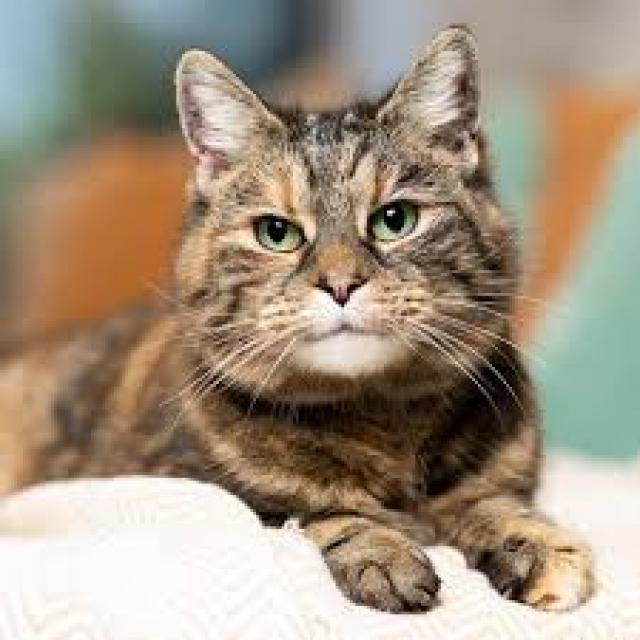Cat: (0, 17, 602, 618)
